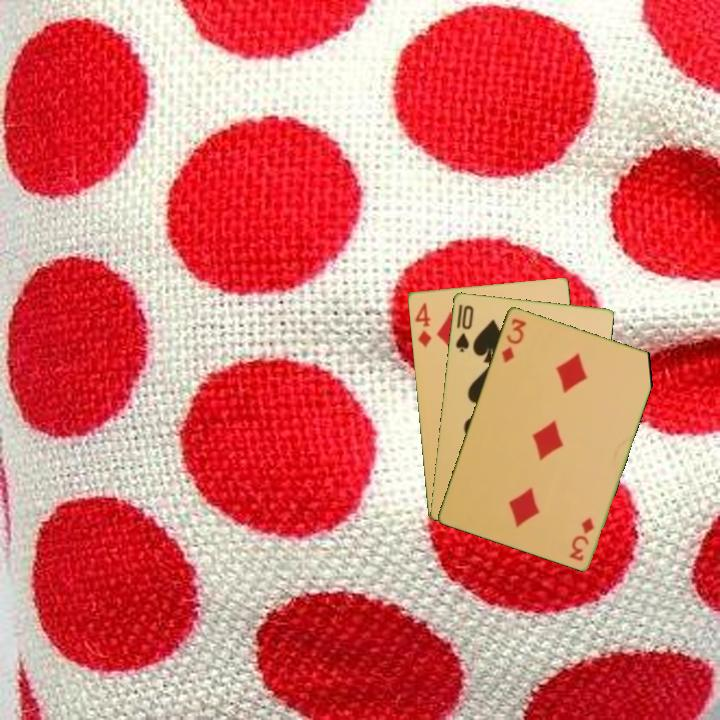10s: (452, 300, 476, 355)
3d: (497, 314, 529, 366), (566, 514, 597, 564)
4d: (411, 299, 434, 350)
